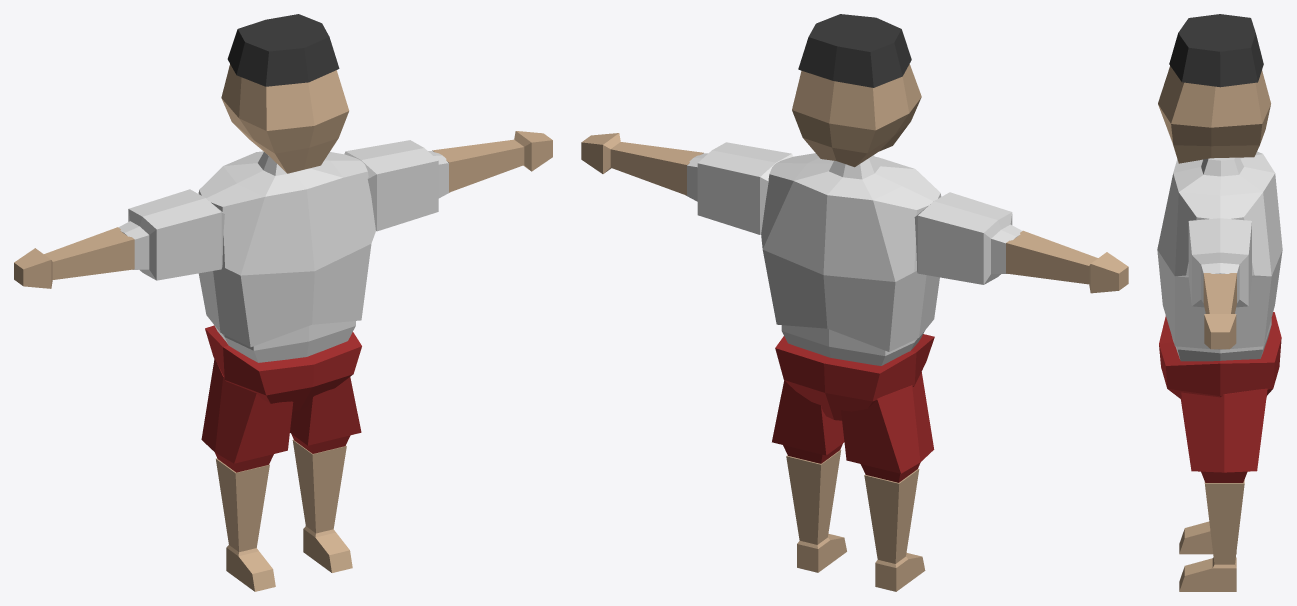
File: TestModel.fbx
3 views of the same model, side by side, from view 1: azimuth 30°, elevation 25°; view 2: azimuth 150°, elevation 25°; view 3: azimuth 270°, elevation 25° (orthographic).
Visible parts, largest first — view 1: Chest, Head, Right Shoulder, Right Hip, Hair, Lower Spine, Left Shoulder, Right Knee, Left Knee, Right Elbow, Left Elbow, Left Hip (+1 smaller); view 2: Chest, Head, Right Shoulder, Lower Spine, Right Hip, Hair, Left Shoulder, Right Knee, Left Knee, Right Elbow, Left Elbow, Left Hip (+1 smaller); view 3: Chest, Head, Left Hip, Hair, Lower Spine, Left Shoulder, Left Knee, Left Elbow, Spine, Right Knee.
Boxes of the visible parts, x1,y1,x2,y2 form: Chest: (198,151,375,347); Head: (221,64,349,173); Right Shoulder: (119,189,224,280); Right Hip: (201,358,293,472); Hair: (227,14,339,86); Lower Spine: (205,325,361,410); Left Shoulder: (344,140,450,231); Right Knee: (216,458,275,591); Left Knee: (292,439,352,572); Right Elbow: (14,227,134,288); Left Elbow: (432,131,552,192); Left Hip: (290,377,361,453); Chest: (761,153,941,351); Head: (792,64,921,167); Right Shoulder: (914,192,1021,284); Lower Spine: (775,334,934,420); Right Hip: (841,372,934,482); Hair: (798,14,911,87); Left Shoulder: (686,142,792,234); Right Knee: (864,469,925,591); Left Knee: (786,450,846,572); Right Elbow: (1006,230,1128,293); Left Elbow: (581,133,703,195); Left Hip: (772,380,844,463); Chest: (1157,151,1282,349); Head: (1158,66,1270,163); Left Hip: (1181,388,1267,482); Hair: (1169,14,1263,87); Lower Spine: (1159,312,1281,399); Left Shoulder: (1188,218,1251,307); Left Knee: (1179,480,1244,591); Left Elbow: (1203,273,1236,349); Spine: (1172,318,1271,361); Right Knee: (1179,521,1236,554).
Size of the model in its own units: 295 by 283 by 60.12.
